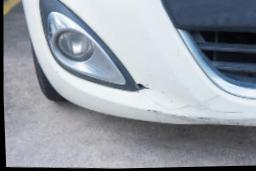Bumper: (127, 76, 256, 130)
